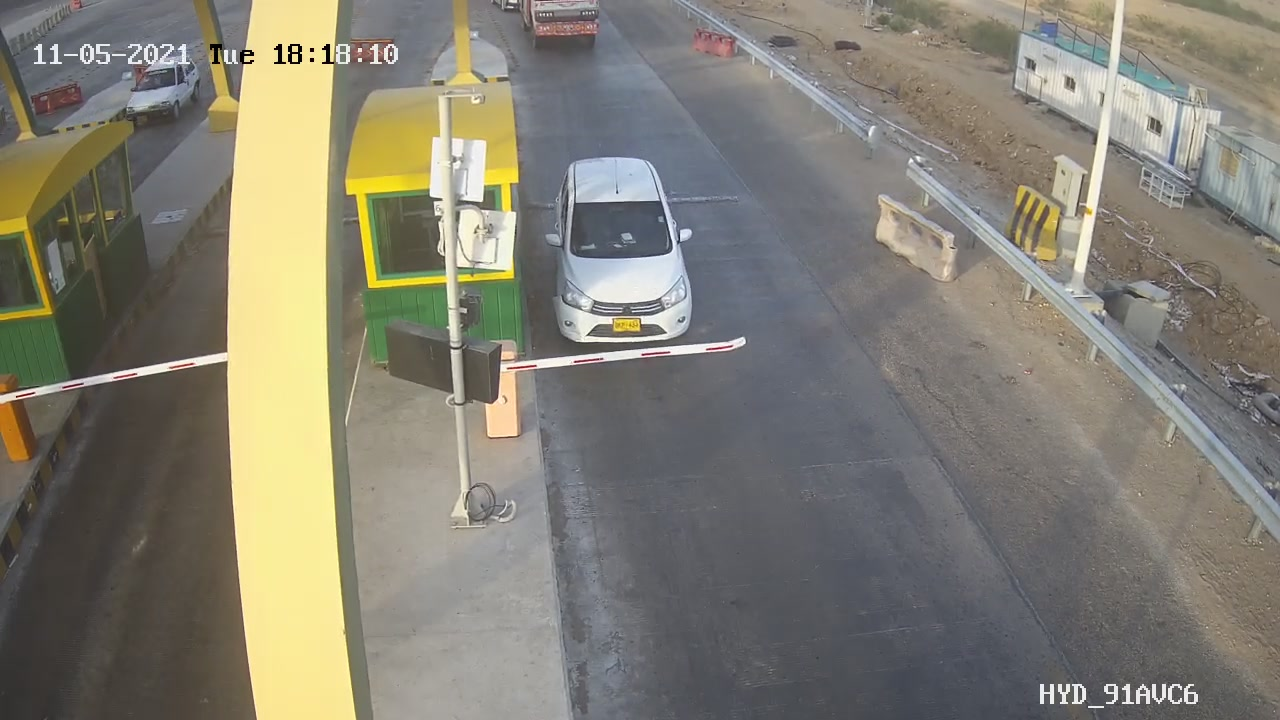F1: (543, 148, 711, 348)
